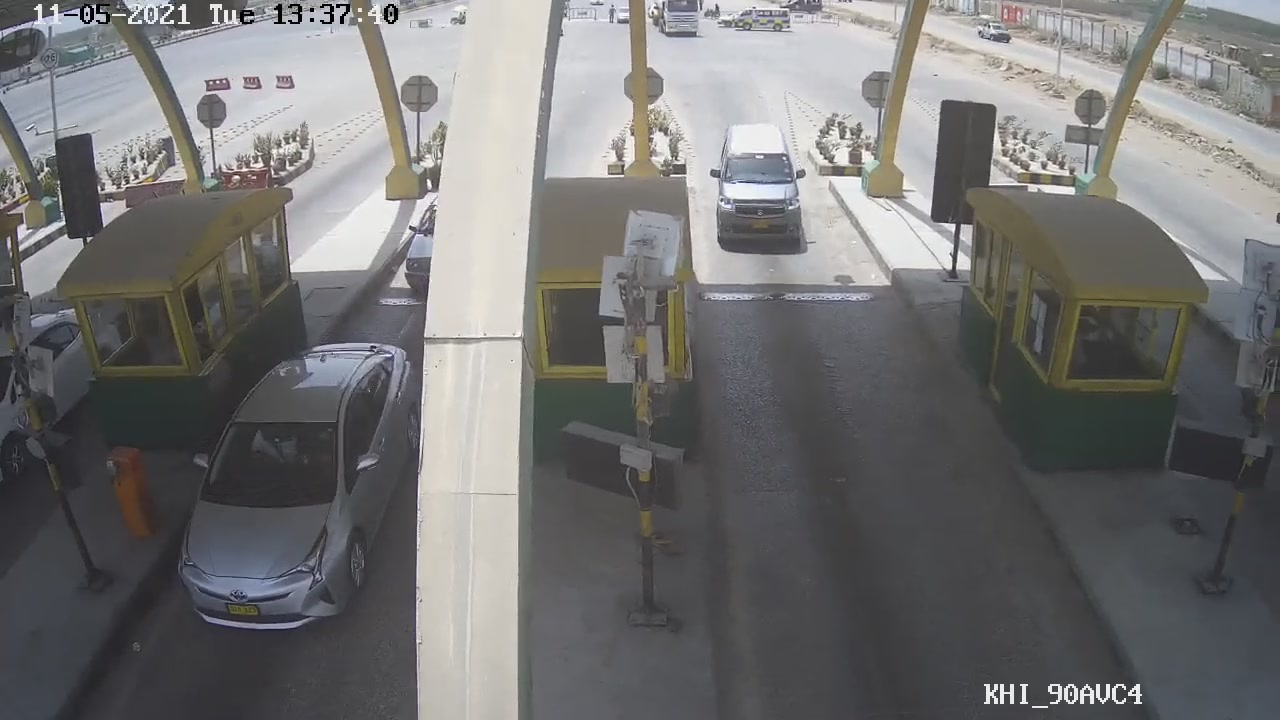F1: (697, 117, 812, 258)
